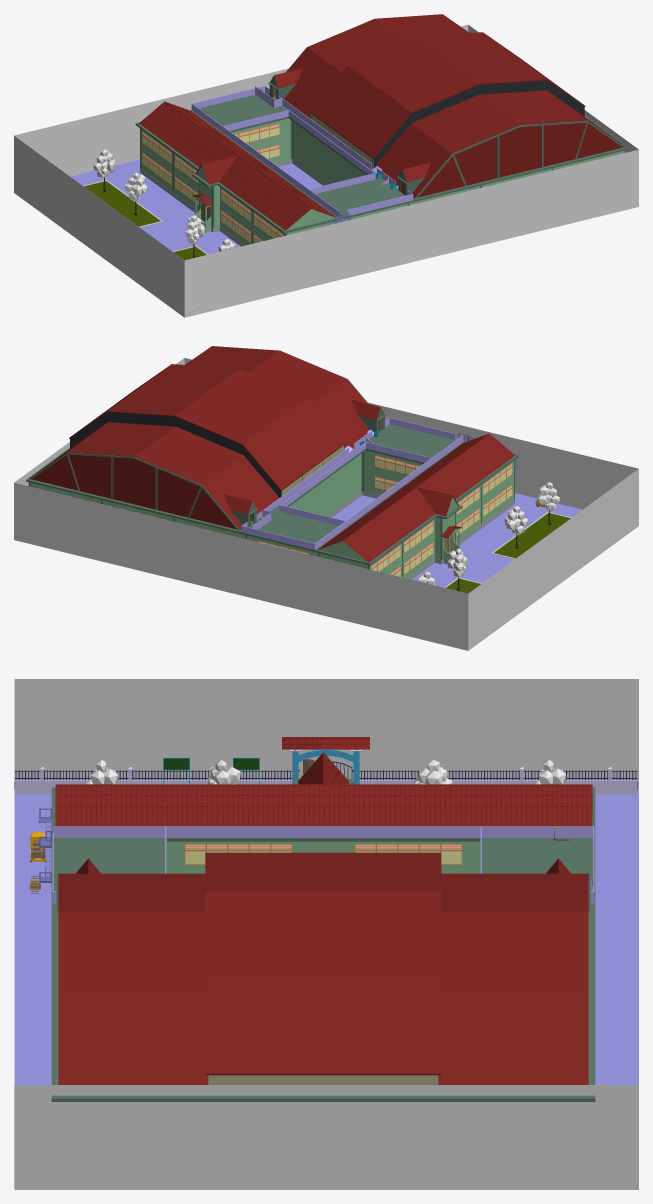
File: MapLevel11.fbx
The picture shows the model from 3 angles, top to bottom: view 1: azimuth 30°, elevation 25°; view 2: azimuth 150°, elevation 25°; view 3: azimuth 270°, elevation 25°; orthographic projection. The views are drawn at different scales.
Visible parts, largest first — view 1: SchoolBuildingRoof.001, Forbidden.001, Forbidden.002, SchoolGateRoof.001, Forbidden.003, SchoolBuilding, SchoolBuildingRoof, Surface.001, SchoolBuildingWindow, Grass, SchoolBuildingRoofAddon, SchoolBuildingRoof.002 (+12 smaller); view 2: SchoolBuildingRoof.001, Forbidden.003, Forbidden.002, SchoolBuilding, SchoolGateRoof.001, Forbidden.001, SchoolBuildingRoof, Surface.001, SchoolBuildingWindow, Grass.001, SchoolBuildingRoofAddon, SchoolBuildingRoof.002 (+13 smaller); view 3: SchoolBuildingRoof.001, Forbidden, Forbidden.002, Surface.001, SchoolGateRoof.001, SchoolBuildingRoof, SchoolBuildingFence.007, SchoolGate, SchoolBuilding, SchoolBuildingWindow.003, SchoolGate.001, SchoolBuildingRoof.002 (+3 smaller).
Part boxes in pixels (bbox=[...]): SchoolBuildingRoof.001: bbox=[284, 14, 625, 198]; Forbidden.001: bbox=[184, 149, 638, 317]; Forbidden.002: bbox=[14, 136, 184, 317]; SchoolGateRoof.001: bbox=[139, 102, 336, 230]; Forbidden.003: bbox=[14, 25, 468, 176]; SchoolBuilding: bbox=[140, 118, 624, 246]; SchoolBuildingRoof: bbox=[135, 92, 628, 233]; Surface.001: bbox=[70, 159, 322, 254]; SchoolBuildingWindow: bbox=[142, 131, 283, 243]; Grass: bbox=[83, 180, 163, 227]; SchoolBuildingRoofAddon: bbox=[268, 68, 430, 195]; SchoolBuildingRoof.002: bbox=[286, 14, 625, 198]; SchoolBuildingRoof.001: bbox=[29, 346, 369, 530]; Forbidden.003: bbox=[14, 482, 468, 650]; Forbidden.002: bbox=[468, 469, 638, 650]; SchoolBuilding: bbox=[30, 450, 514, 579]; SchoolGateRoof.001: bbox=[317, 434, 515, 562]; Forbidden.001: bbox=[184, 358, 638, 509]; SchoolBuildingRoof: bbox=[26, 424, 518, 565]; Surface.001: bbox=[332, 493, 582, 587]; SchoolBuildingWindow: bbox=[371, 463, 512, 576]; Grass.001: bbox=[491, 511, 571, 559]; SchoolBuildingRoofAddon: bbox=[223, 400, 386, 527]; SchoolBuildingRoof.002: bbox=[29, 346, 368, 530]; SchoolBuildingRoof.001: bbox=[58, 852, 588, 1084]; Forbidden: bbox=[14, 1085, 638, 1189]; Forbidden.002: bbox=[14, 679, 638, 778]; Surface.001: bbox=[14, 779, 638, 1084]; SchoolGateRoof.001: bbox=[55, 784, 592, 826]; SchoolBuildingRoof: bbox=[51, 764, 595, 1101]; SchoolBuildingFence.007: bbox=[52, 826, 593, 837]; SchoolGate: bbox=[14, 749, 637, 794]; SchoolBuilding: bbox=[167, 841, 479, 873]; SchoolBuildingWindow.003: bbox=[184, 843, 462, 865]; SchoolGate.001: bbox=[14, 770, 637, 780]; SchoolBuildingRoof.002: bbox=[56, 874, 590, 1084].
Bounding box in the file's own units: 7263 × 1681 × 4691.
4 materials, 2 textured.
